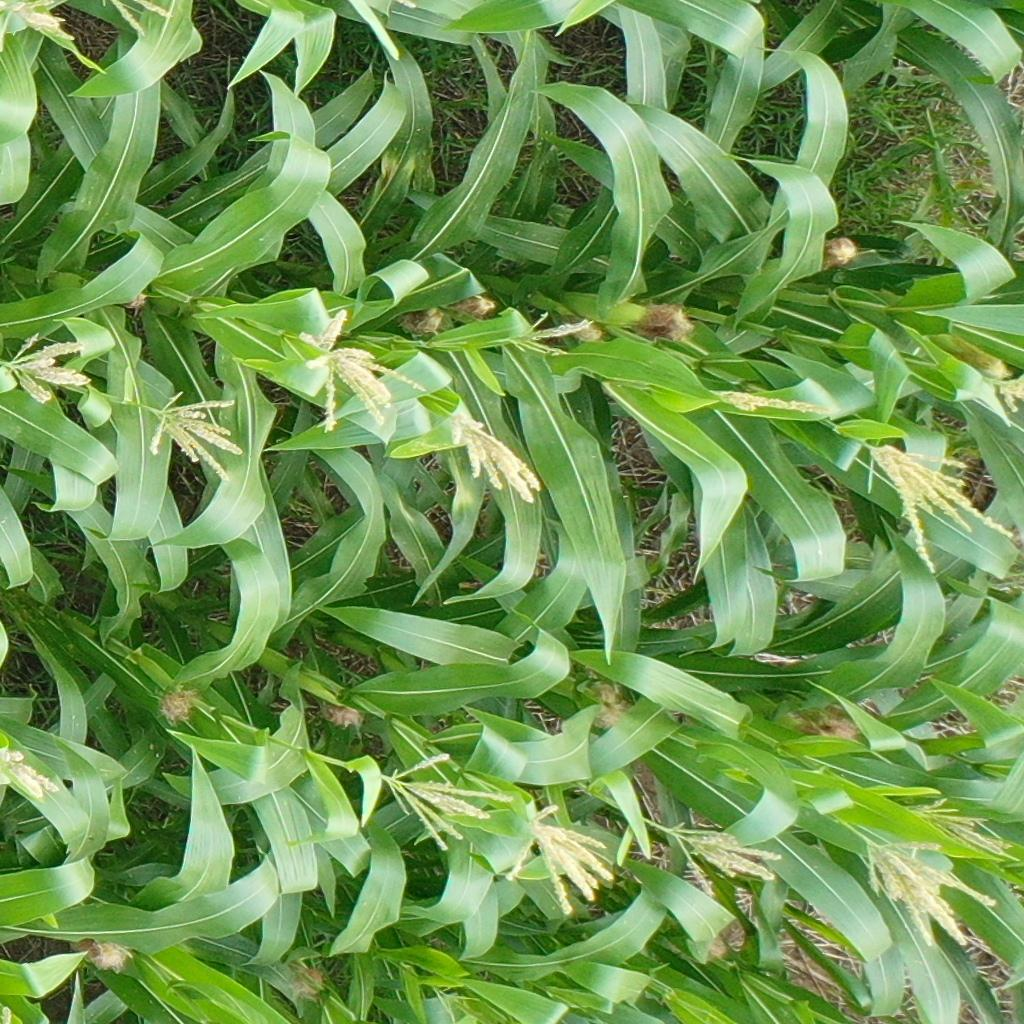Tassel: (866, 446, 1013, 575), (298, 309, 429, 435), (857, 834, 1002, 947), (384, 751, 514, 852), (505, 805, 616, 917), (667, 815, 785, 893), (449, 414, 546, 507), (150, 391, 244, 484), (907, 794, 1022, 864), (1, 332, 93, 406), (709, 385, 841, 423), (508, 311, 595, 359), (1, 744, 62, 800), (1, 1, 77, 45), (110, 1, 175, 36), (436, 985, 480, 1024), (987, 371, 1024, 414)
